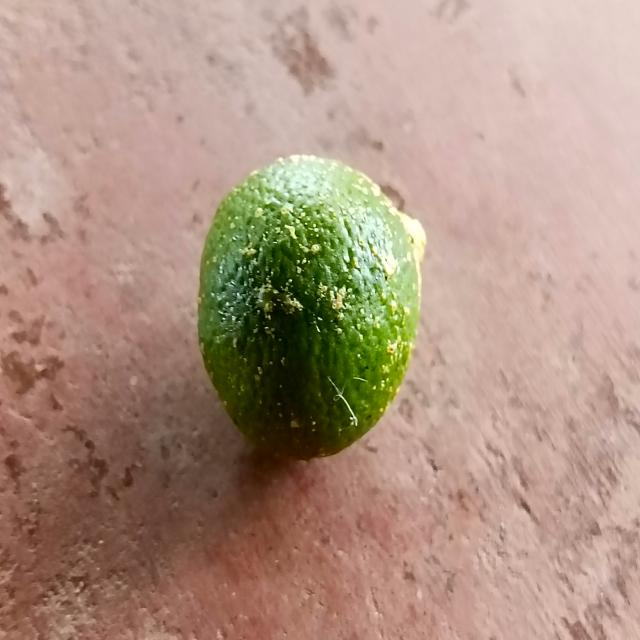scab: (198, 154, 429, 447)
